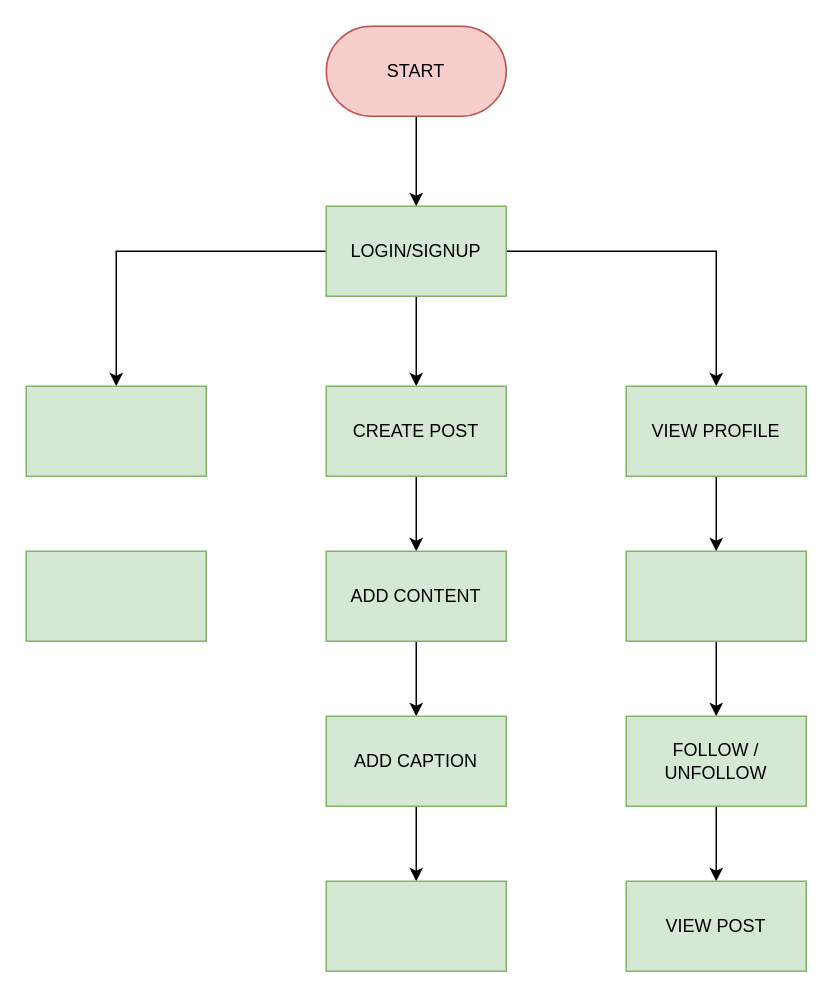
Image size: 833x998. Some labels were removed from this diagram. Each missing label, with the centre of its shape:
"CREATE ACTION" goes at point (115, 595).
"POST" goes at point (415, 925).
"SEE FOLLOWERS/ FOLLOWING" goes at point (715, 595).
"VIEW FEEDS" goes at point (115, 430).
